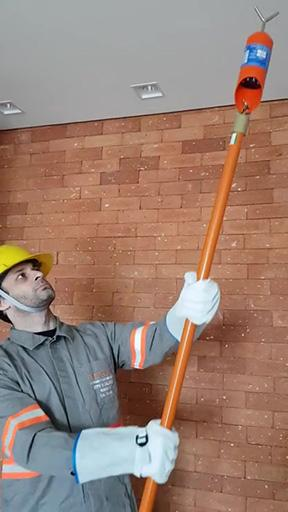Detector_Tensao_Contato: (234, 5, 281, 115)
Vara_Manobra: (139, 115, 252, 512)
